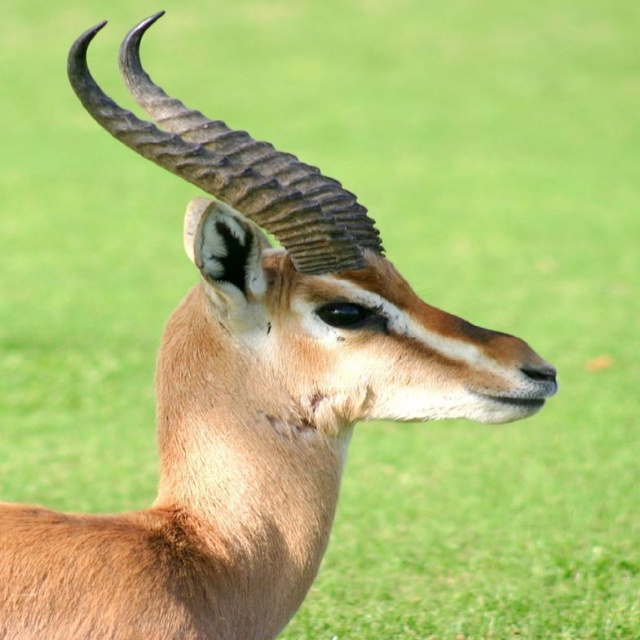Deer: (0, 11, 558, 640)
